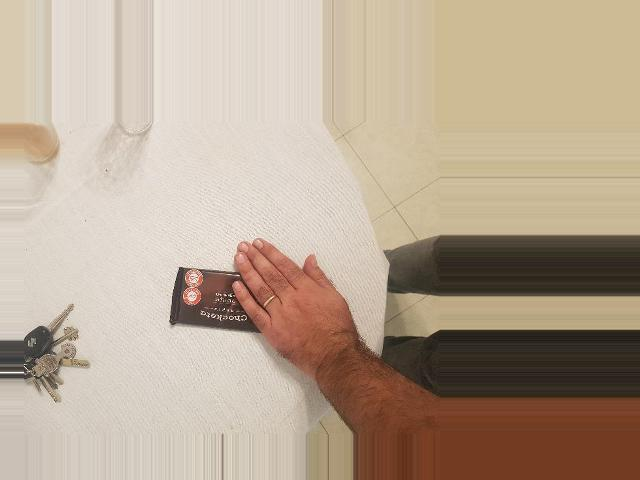chocolate: (164, 258, 323, 340)
